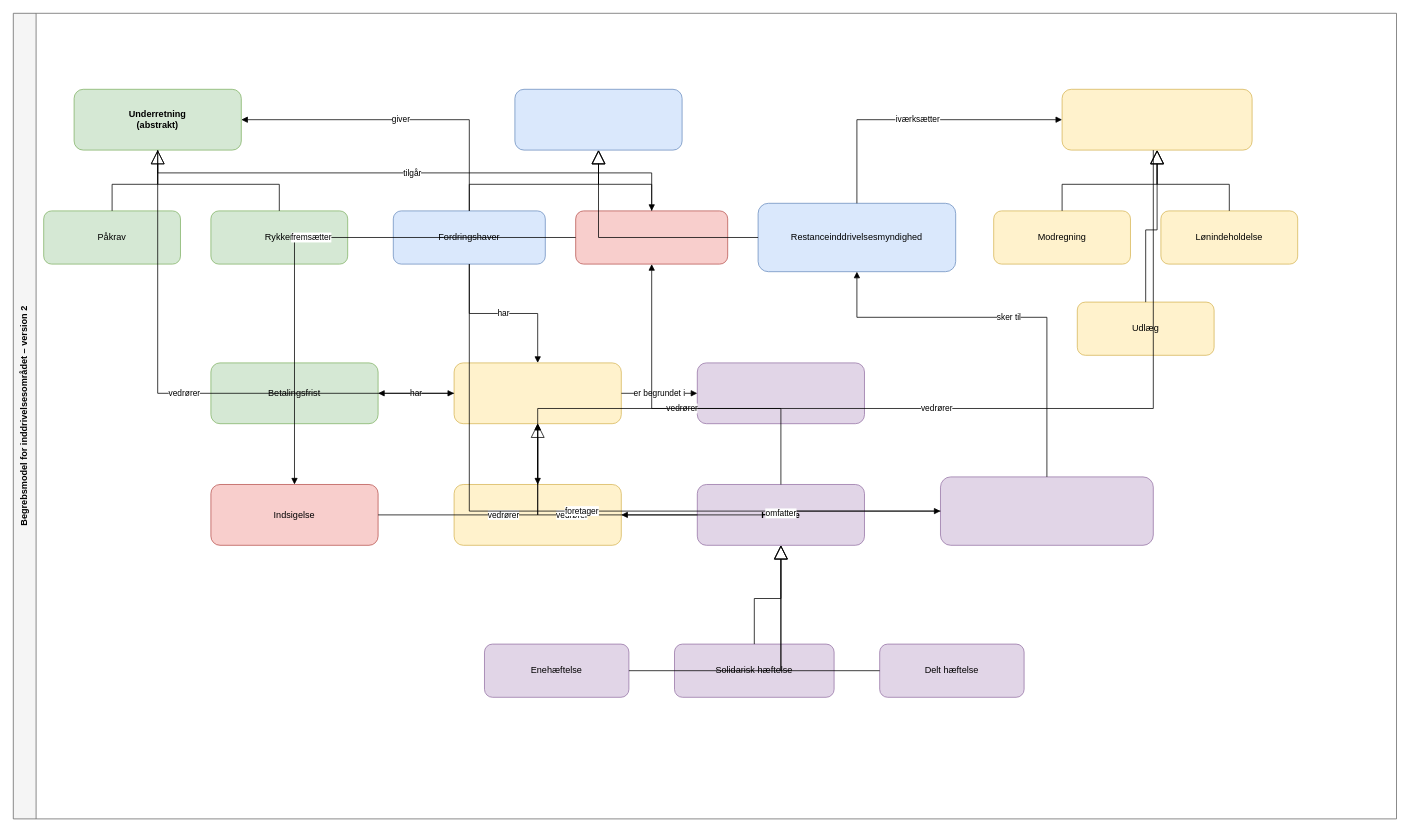
The diagram is 1410 pixels wide and 832 high, and some of its shapes have lost their labels. The box of each missing label's shape, as (x1, y1, x2, y2) in pixels:
Fordring: (453, 362, 621, 424)
Inddrivelsesskridt (abstrakt): (1061, 89, 1252, 150)
Kravgrundlag: (697, 362, 864, 424)
Overdragelse til inddrivelse: (940, 476, 1153, 545)
Part (abstrakt): (514, 89, 682, 150)
Restance: (453, 484, 621, 545)
Skyldner: (575, 210, 728, 264)
